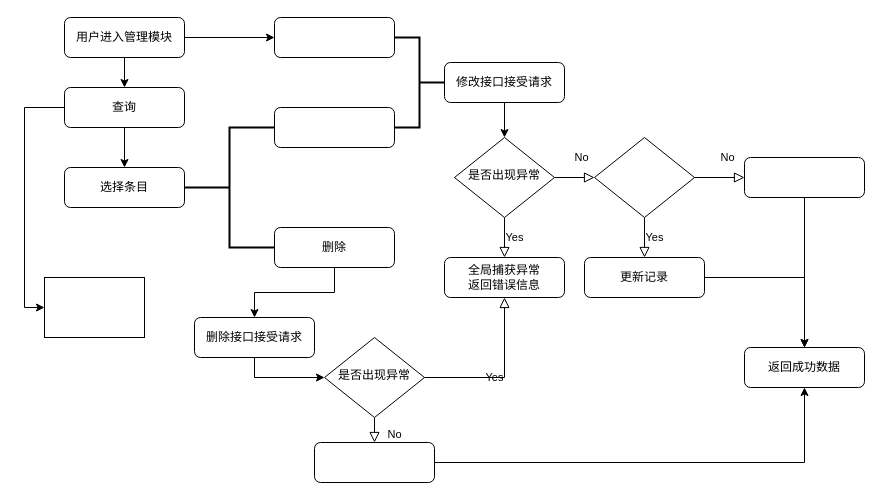
Some shapes in this 882 by 500 pixel diagram are drawn without their labels. The shapes that lost their labels are listed below. From the top down, each one's box as (x1, y1, x2, y2) in pixels, then its label:
(274, 16, 394, 58): 新增
(274, 106, 394, 148): 修改
(594, 136, 694, 218): 是否有ID
(744, 156, 864, 198): 新增记录
(44, 276, 144, 338): 高级查询
(314, 442, 434, 482): 删除对应记录
